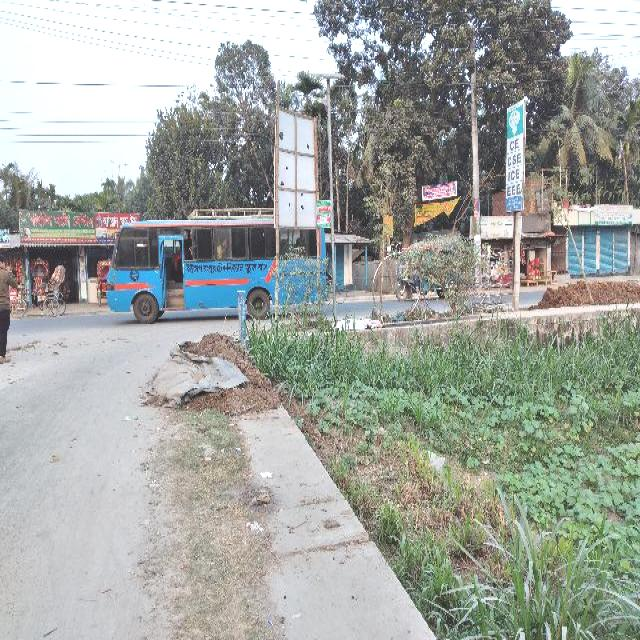BUS: (100, 221, 273, 330)
